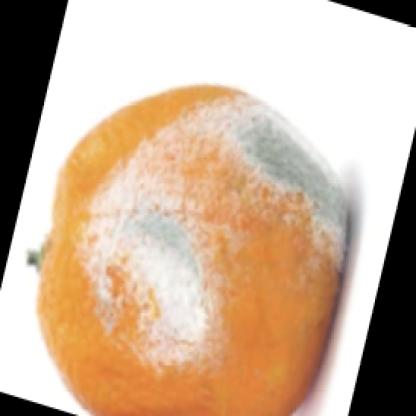rotten: (37, 83, 354, 416)
